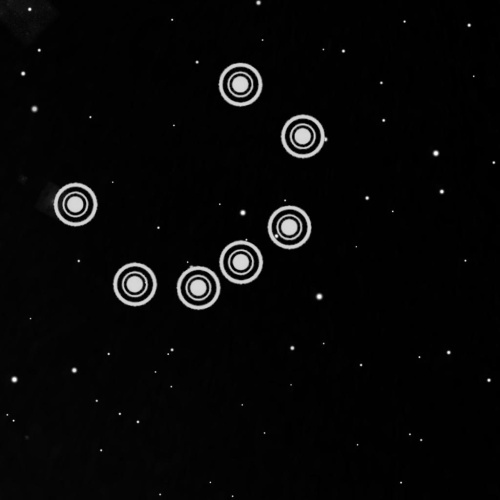corona_borealis: (48, 51, 335, 318)
